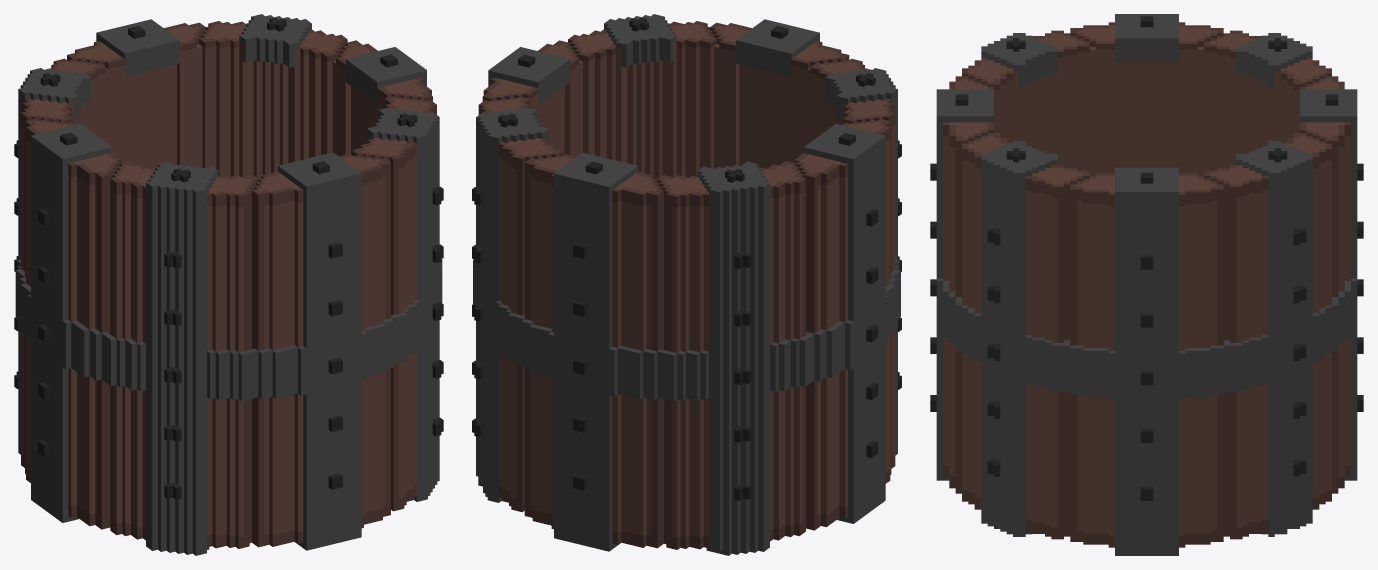
Rendered from Mine-0-Bucket.obj.
3 renders of one model, left to right at view 1: azimuth 30°, elevation 25°; view 2: azimuth 150°, elevation 25°; view 3: azimuth 270°, elevation 25°, orthographic.
Parts seen in each view (by area): view 1: Bucket; view 2: Bucket; view 3: Bucket.
Part boxes in pixels (x1=…): Bucket: x1=14, y1=14, x2=443, y2=555; Bucket: x1=472, y1=14, x2=901, y2=555; Bucket: x1=930, y1=14, x2=1363, y2=555.
Bounding box in the file's own units: 6.8 × 6.5 × 6.8.
1 material, 1 textured.
